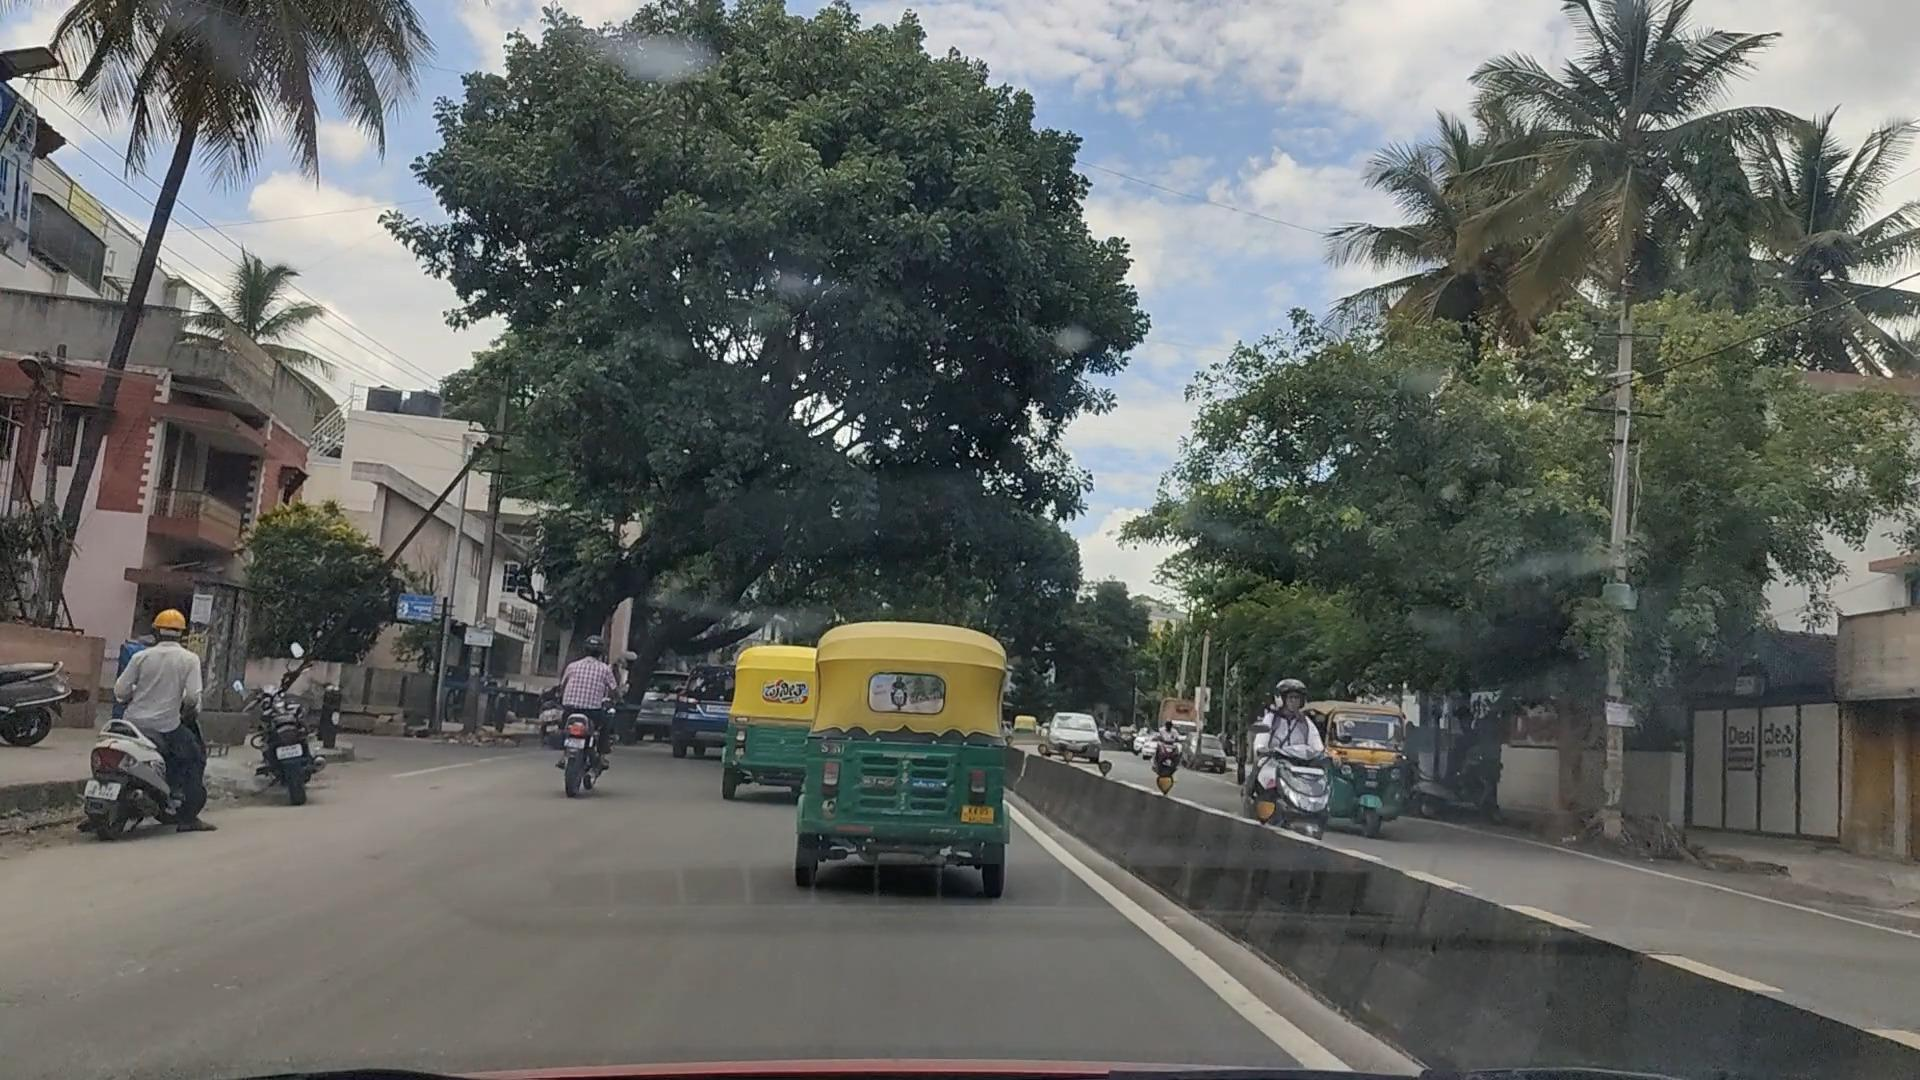LMV: (808, 638, 1015, 898), (66, 597, 225, 851), (538, 636, 637, 808), (723, 641, 807, 811)
RoadDamages: (70, 887, 315, 1080)
